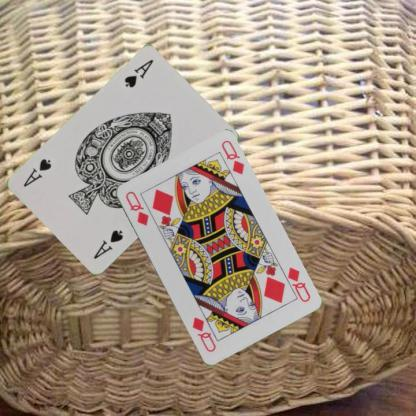As: (91, 227, 124, 261), (121, 57, 155, 90)
Qd: (278, 263, 311, 304), (122, 188, 150, 227)
